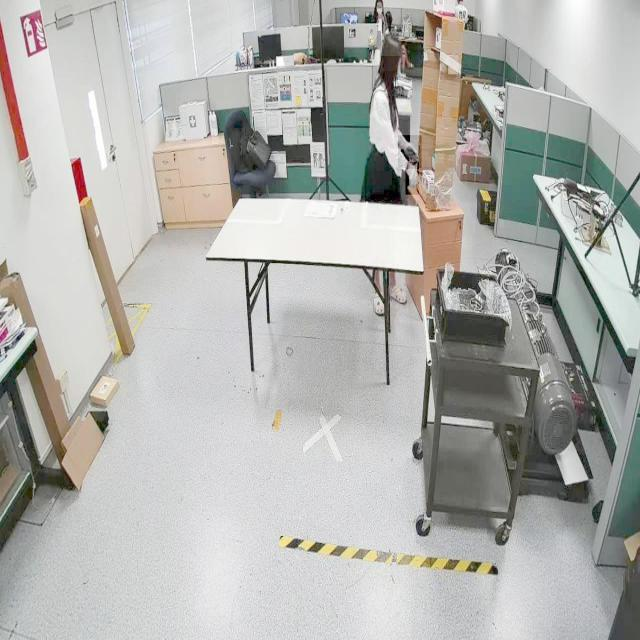face_mask: (398, 135, 422, 169), (406, 162, 420, 196)
head_nohelmet: (380, 31, 402, 57)
person: (365, 18, 418, 205)
